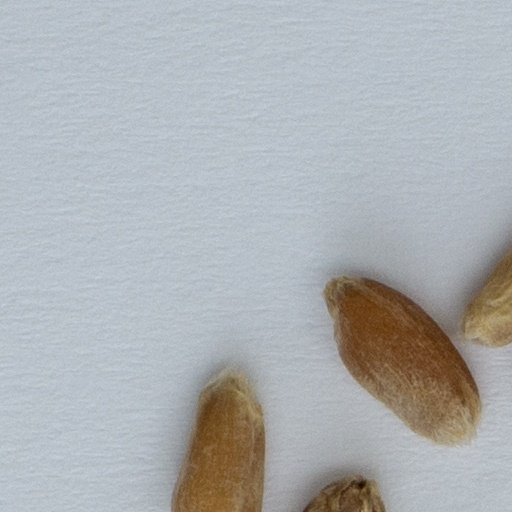Wheat-grain-poly: (301, 474, 383, 511)
